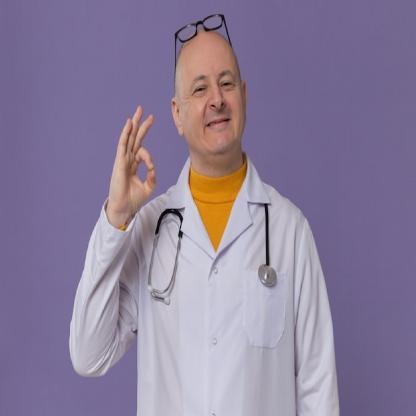ok: (106, 102, 158, 224)
